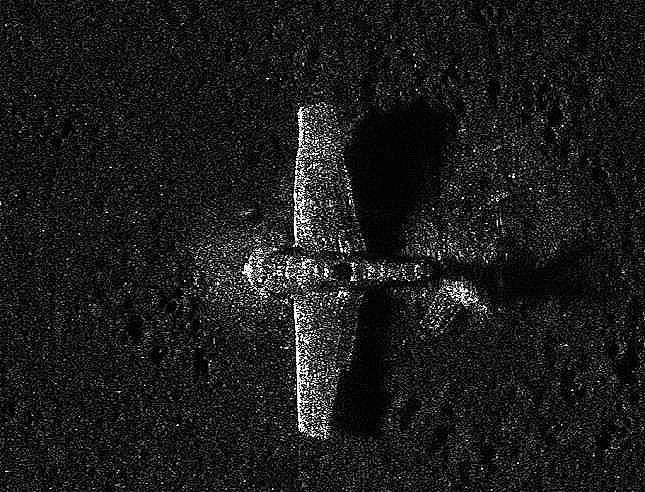aircraft: (235, 103, 494, 439)
